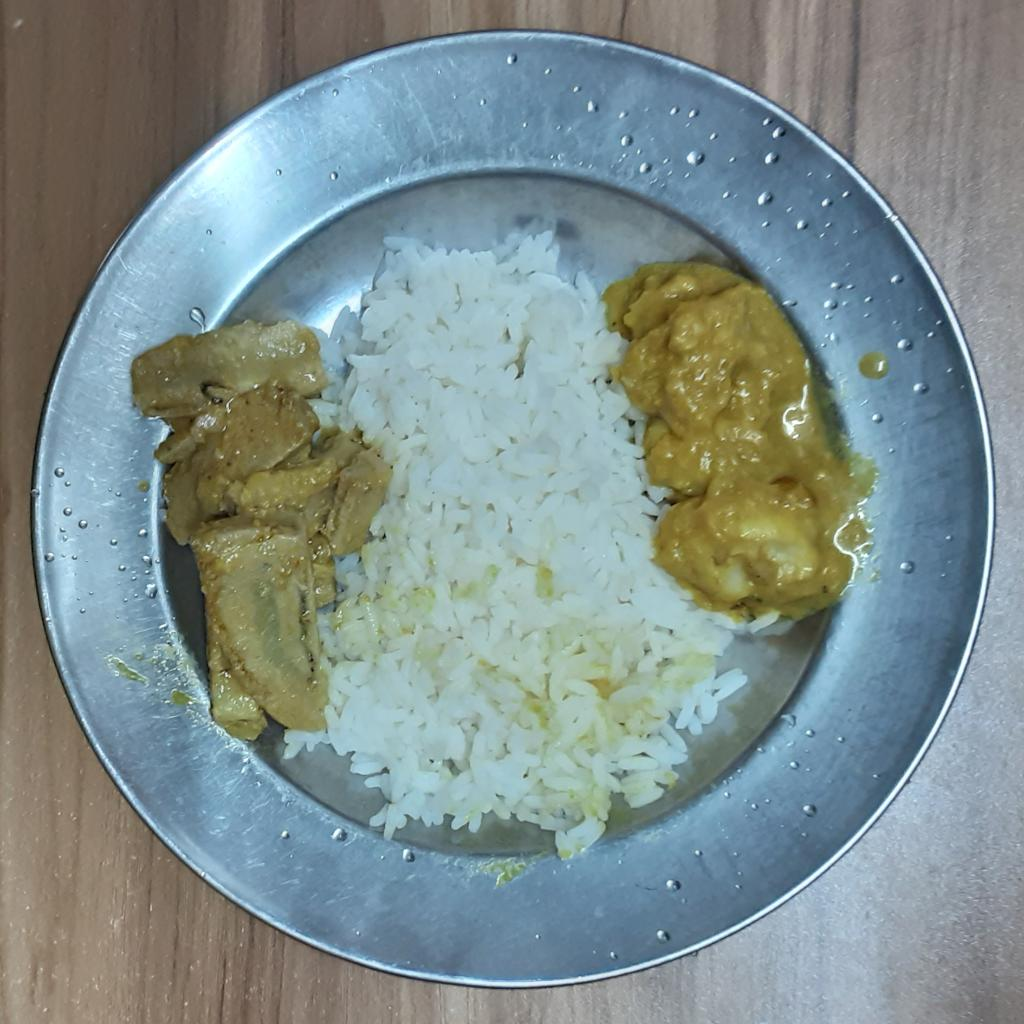banana: (137, 322, 389, 743)
kochu: (601, 258, 873, 612)
rice: (285, 228, 791, 860)
